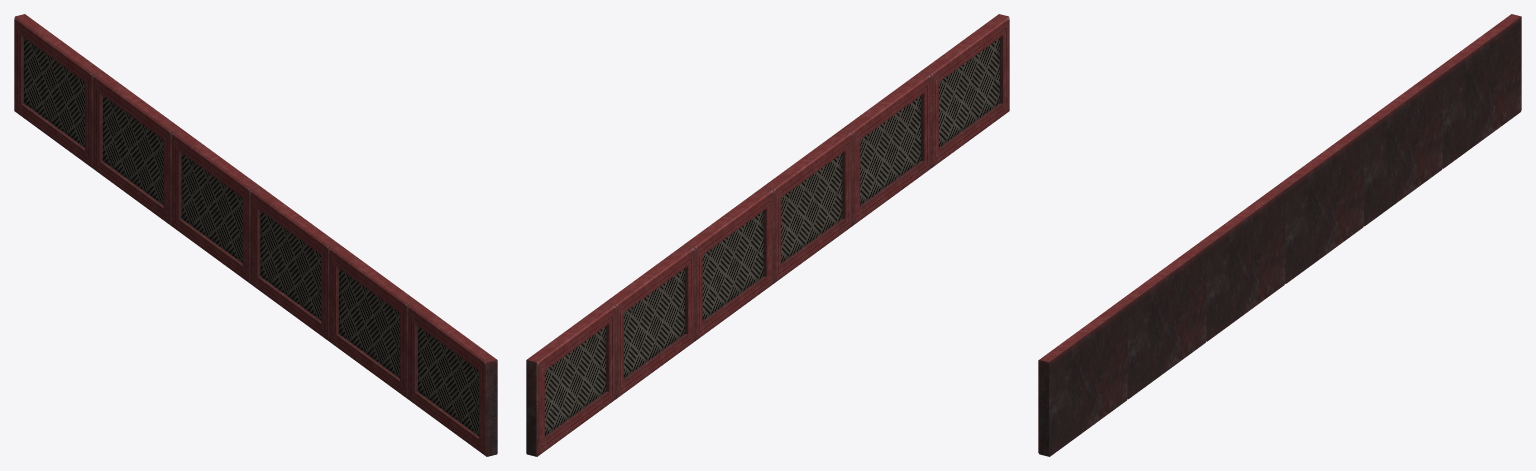
Rendered from Final Area Lateral 2.fbx.
3 views of the same model, side by side, from view 1: azimuth 30°, elevation 25°; view 2: azimuth 150°, elevation 25°; view 3: azimuth 330°, elevation 25° (orthographic).
Parts seen in each view (by area): view 1: Final Area Lateral 2; view 2: Final Area Lateral 2; view 3: Final Area Lateral 2.
Boxes of the visible parts, <box> form: Final Area Lateral 2: <box>14,14,497,456</box>; Final Area Lateral 2: <box>526,14,1009,456</box>; Final Area Lateral 2: <box>1038,14,1521,456</box>.
Bounding box in the file's own units: 0.5 × 4 × 36.
